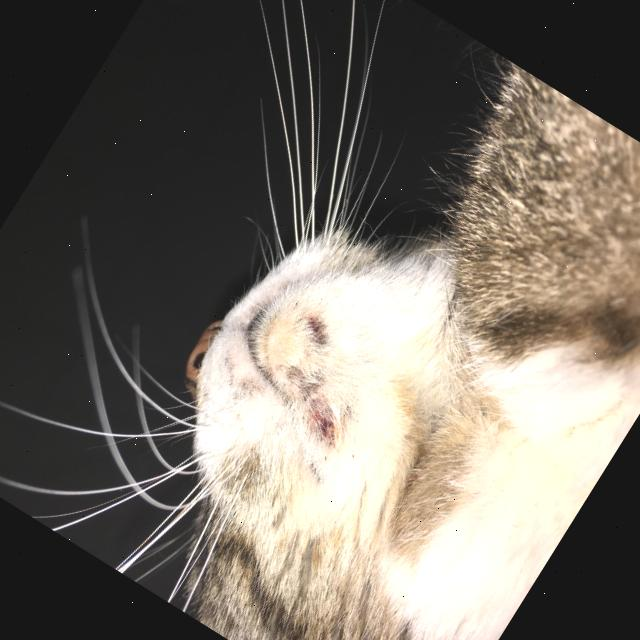cat-dermatitis: (298, 403, 348, 448), (295, 311, 327, 344)
